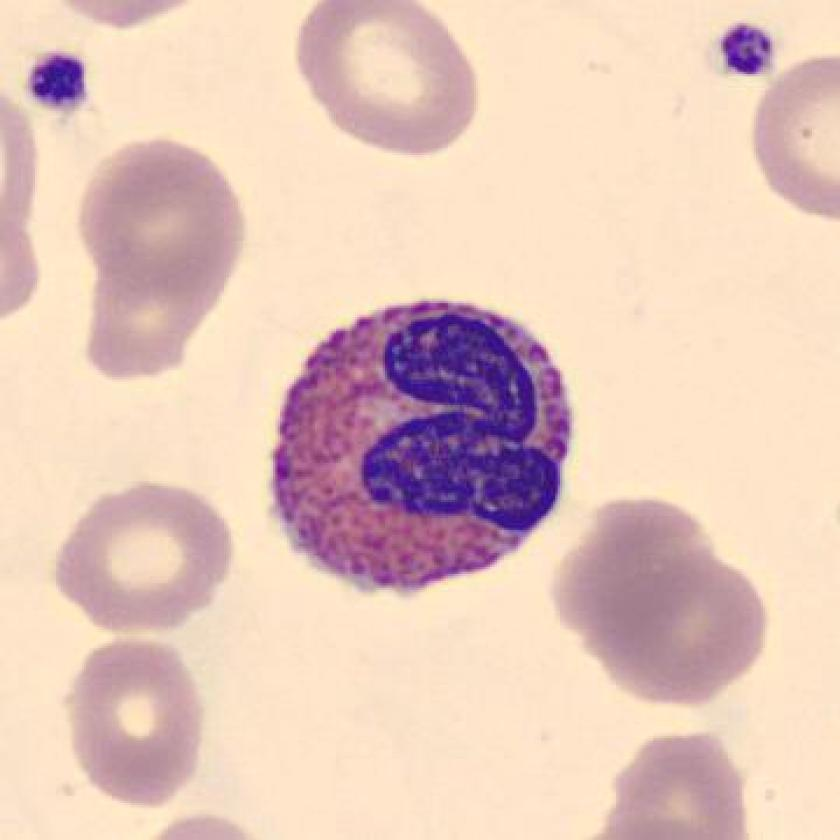eosinophil: (258, 288, 584, 623)
